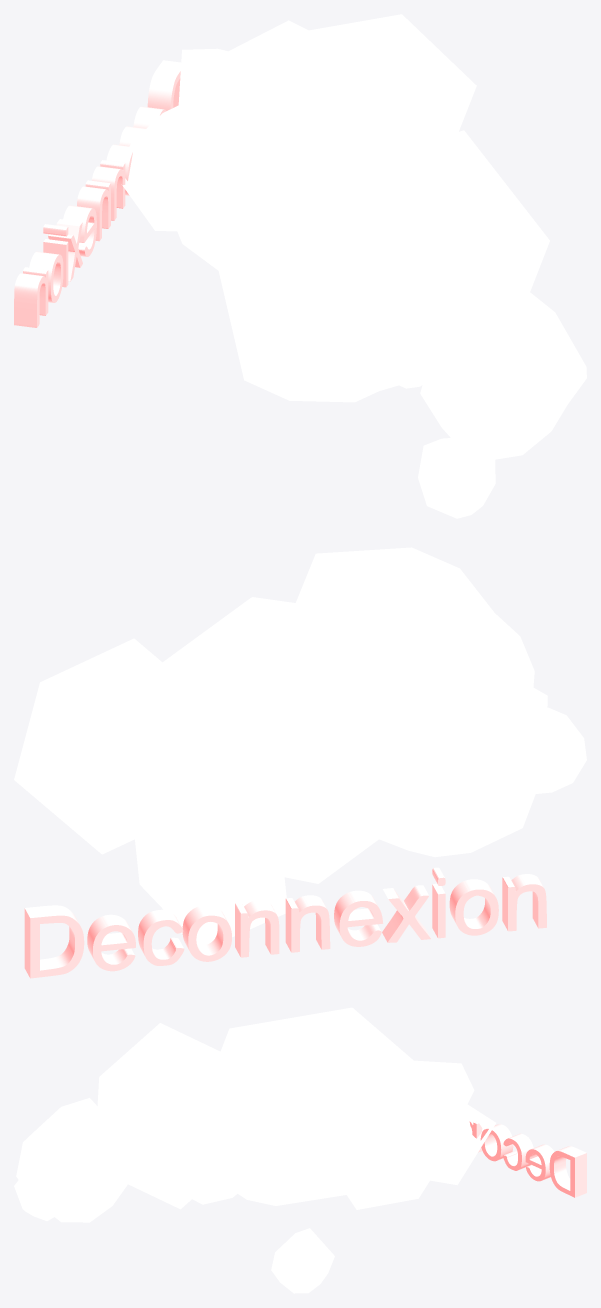
File: cloud4.glb
3 views of the same model, one above another, from view 1: azimuth 30°, elevation 25°; view 2: azimuth 150°, elevation 25°; view 3: azimuth 270°, elevation 25° (orthographic). The views are drawn at different scales.
Visible parts, largest first — view 1: Объект_Платоново_тело1_2, Объект_Платоново_тело_8, Объект_Платоново_тело1_1, Объект_Платоново_тело_2, Объект_Платоново_тело_7, Объект_Платоново_тело_1, Объект_Платоново_тело_5, Node8, Объект_Платоново_тело_6, Node1, Node7, Node6 (+3 smaller); view 2: Объект_Платоново_тело1_2, Объект_Платоново_тело1_1, Объект_Платоново_тело_7, Объект_Платоново_тело_8, Объект_Платоново_тело_5, Объект_Платоново_тело_6, Объект_Платоново_тело_3, Node1, Объект_Платоново_тело_1, Node4, Node5, Node3 (+8 smaller); view 3: Объект_Платоново_тело1_2, Объект_Платоново_тело_8, Объект_Платоново_тело_7, Объект_Платоново_тело_2, Объект_Платоново_тело_4, Объект_Платоново_тело_6, Объект_Платоново_тело_5, Объект_Платоново_тело1_1, Node1, Node2, Node4, Node10 (+1 smaller).
Boxes of the visible parts, x1,y1,x2,y2 form: Объект_Платоново_тело1_2: [159, 20, 453, 270]; Объект_Платоново_тело_8: [288, 130, 549, 392]; Объект_Платоново_тело1_1: [213, 189, 454, 402]; Объект_Платоново_тело_2: [420, 264, 586, 459]; Объект_Платоново_тело_7: [272, 14, 476, 187]; Объект_Платоново_тело_1: [418, 437, 495, 518]; Объект_Платоново_тело_5: [118, 105, 279, 231]; Node8: [14, 267, 48, 327]; Объект_Платоново_тело_6: [178, 48, 270, 154]; Node1: [147, 60, 181, 110]; Node7: [77, 180, 110, 241]; Node6: [92, 160, 125, 220]; Объект_Платоново_тело1_2: [126, 597, 453, 883]; Объект_Платоново_тело1_1: [297, 635, 547, 857]; Объект_Платоново_тело_7: [14, 638, 222, 854]; Объект_Платоново_тело_8: [260, 547, 521, 790]; Объект_Платоново_тело_5: [132, 778, 286, 945]; Объект_Платоново_тело_6: [128, 722, 258, 856]; Объект_Платоново_тело_3: [168, 803, 267, 890]; Node1: [24, 905, 84, 978]; Объект_Платоново_тело_1: [536, 707, 586, 793]; Node4: [87, 914, 135, 971]; Node5: [334, 890, 383, 946]; Node3: [449, 879, 498, 935]; Объект_Платоново_тело1_2: [186, 1007, 432, 1205]; Объект_Платоново_тело_8: [94, 1023, 246, 1209]; Объект_Платоново_тело_7: [314, 1077, 454, 1209]; Объект_Платоново_тело_2: [16, 1098, 139, 1222]; Объект_Платоново_тело_4: [271, 1228, 334, 1293]; Объект_Платоново_тело_6: [404, 1060, 474, 1135]; Объект_Платоново_тело_5: [421, 1082, 495, 1185]; Объект_Платоново_тело1_1: [136, 1054, 280, 1204]; Node1: [549, 1146, 586, 1197]; Node2: [480, 1124, 513, 1161]; Node4: [525, 1144, 554, 1181]; Node10: [503, 1133, 533, 1170].
Size of the model in its own units: 3.39 by 2.5 by 5.18.
